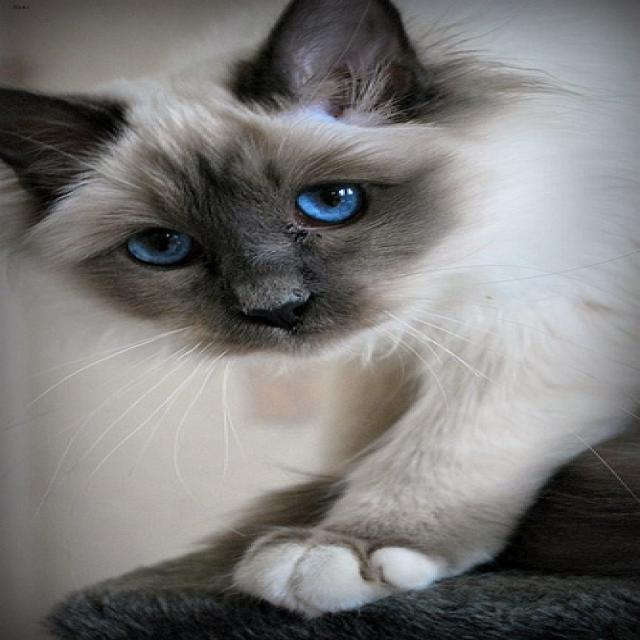Birman: (0, 0, 483, 361)
